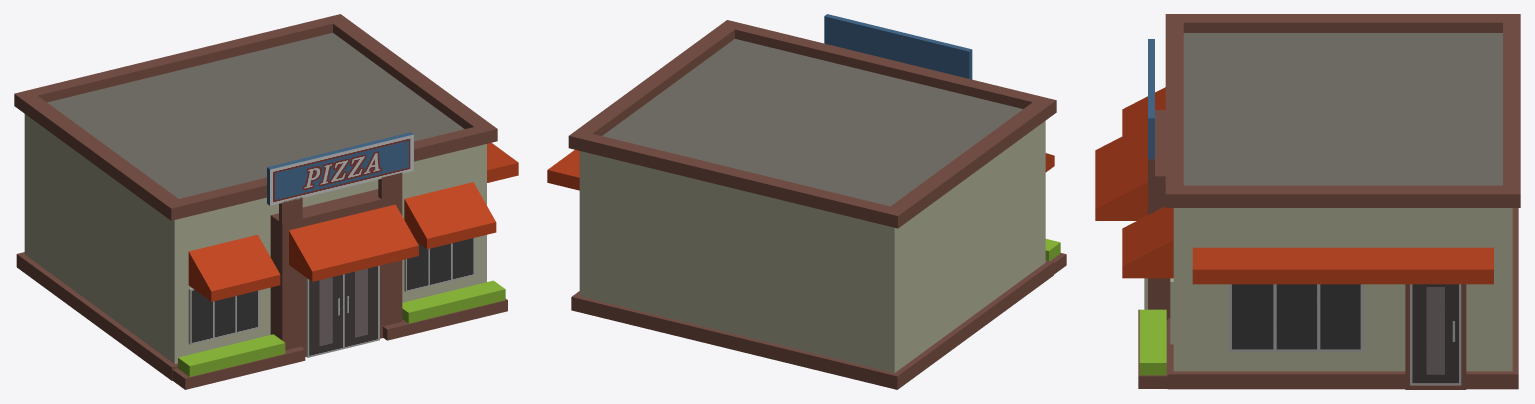
The model's file is building-pizza.glb.
3 renders of one model, left to right at view 1: azimuth 30°, elevation 25°; view 2: azimuth 150°, elevation 25°; view 3: azimuth 270°, elevation 25°, orthographic. The views are drawn at different scales.
Parts seen in each view (by area): view 1: Building_Pizza; view 2: Building_Pizza; view 3: Building_Pizza.
Part boxes in pixels (x1,y1,x2,y2): Building_Pizza: (14,14,518,389); Building_Pizza: (547,14,1066,389); Building_Pizza: (1095,14,1520,389).
Bounding box in the file's own units: 14.97 × 7.8 × 13.57.
Materials: 1 (1 with a texture image).
